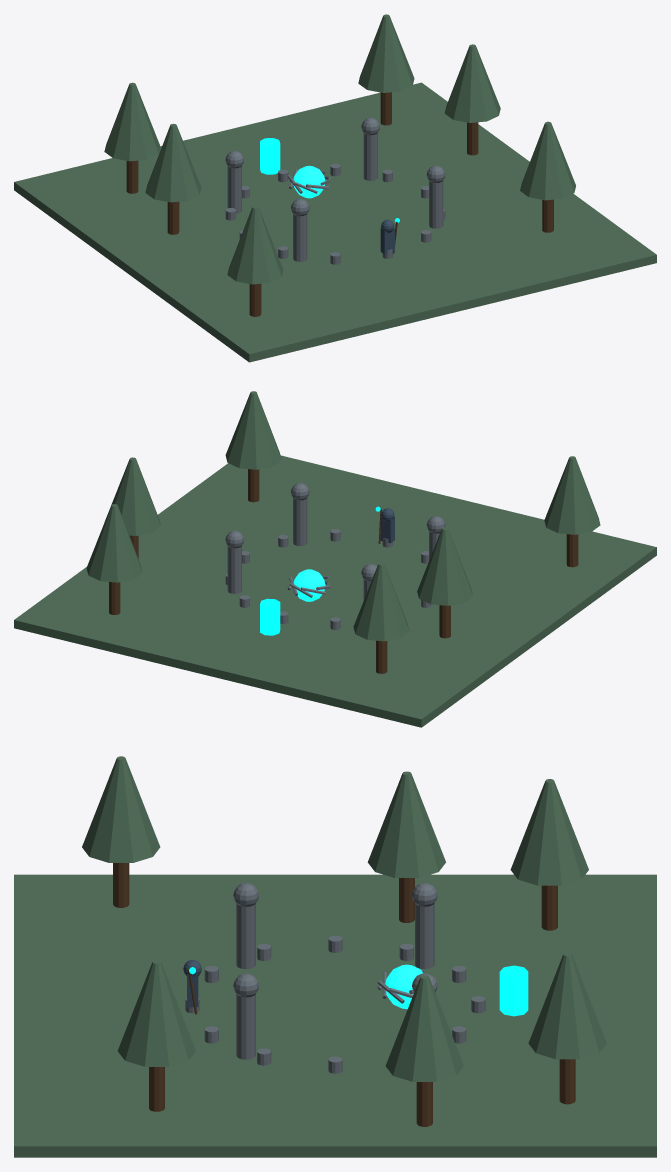
File: veiled_reach.glb
3 views of the same model, one above another, from view 1: azimuth 30°, elevation 25°; view 2: azimuth 150°, elevation 25°; view 3: azimuth 270°, elevation 25° (orthographic). The views are drawn at different scales.
Parts seen in each view (by area): view 1: Hollowmere Ground, Tree Canopy 1, Tree Canopy 0, Tree Canopy 3, Tree Canopy 5, Tree Canopy 4, Tree Canopy 2, Observatory Heart, Thorn Warden Core, Observatory Column.003, Observatory Column, Observatory Column.002 (+1 smaller); view 2: Hollowmere Ground, Tree Canopy 0, Tree Canopy 2, Tree Canopy 1, Tree Canopy 4, Tree Canopy 5, Tree Canopy 3, Observatory Heart, Thorn Warden Core, Observatory Column.002, Observatory Column.003; view 3: Hollowmere Ground, Tree Canopy 5, Tree Canopy 4, Tree Canopy 2, Tree Canopy 0, Tree Canopy 3, Tree Canopy 1, Observatory Heart, Observatory Column, Observatory Column.001, Observatory Column.002, Thorn Warden Core (+6 smaller).
Boxes of the visible parts, <box> form: Hollowmere Ground: <box>14,82,656,362</box>; Tree Canopy 1: <box>145,123,201,202</box>; Tree Canopy 0: <box>227,206,283,284</box>; Tree Canopy 3: <box>444,44,500,122</box>; Tree Canopy 5: <box>358,14,414,92</box>; Tree Canopy 4: <box>104,82,160,161</box>; Tree Canopy 2: <box>520,121,575,200</box>; Observatory Heart: <box>260,138,280,174</box>; Thorn Warden Core: <box>293,165,325,198</box>; Observatory Column.003: <box>363,133,377,180</box>; Observatory Column: <box>293,214,307,261</box>; Observatory Column.002: <box>429,181,443,228</box>; Hollowmere Ground: <box>14,455,656,727</box>; Tree Canopy 0: <box>544,456,600,534</box>; Tree Canopy 2: <box>225,391,281,469</box>; Tree Canopy 1: <box>417,527,473,605</box>; Tree Canopy 4: <box>353,563,409,641</box>; Tree Canopy 5: <box>86,504,142,582</box>; Tree Canopy 3: <box>105,457,160,535</box>; Observatory Heart: <box>260,598,280,635</box>; Thorn Warden Core: <box>293,569,325,601</box>; Observatory Column.002: <box>293,498,307,545</box>; Observatory Column.003: <box>227,546,241,593</box>; Hollowmere Ground: <box>14,874,656,1157</box>; Tree Canopy 5: <box>528,952,606,1059</box>; Tree Canopy 4: <box>510,779,588,885</box>; Tree Canopy 2: <box>117,960,195,1066</box>; Tree Canopy 0: <box>82,756,160,862</box>; Tree Canopy 3: <box>385,975,463,1081</box>; Tree Canopy 1: <box>367,771,445,877</box>; Observatory Heart: <box>499,965,528,1016</box>; Observatory Column: <box>236,903,255,969</box>; Observatory Column.001: <box>415,903,434,969</box>; Observatory Column.002: <box>236,994,255,1059</box>; Thorn Warden Core: <box>385,964,423,1009</box>.
Size of the model in its own units: 36 by 9.75 by 36.
